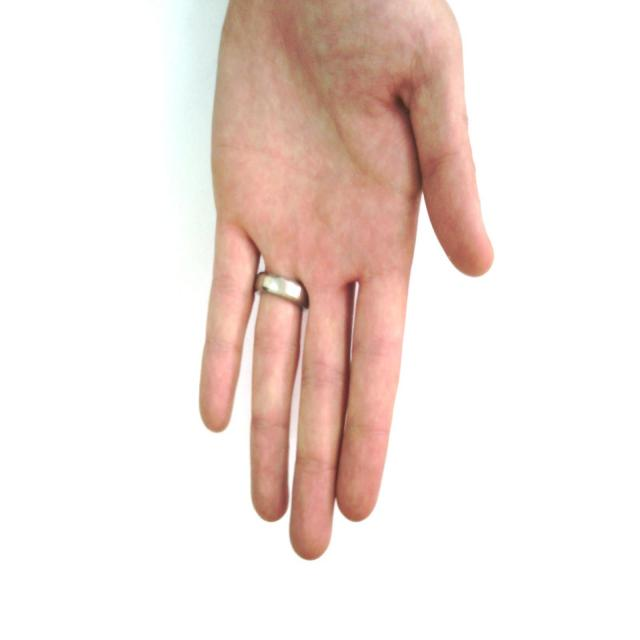others: (158, 1, 537, 560)
